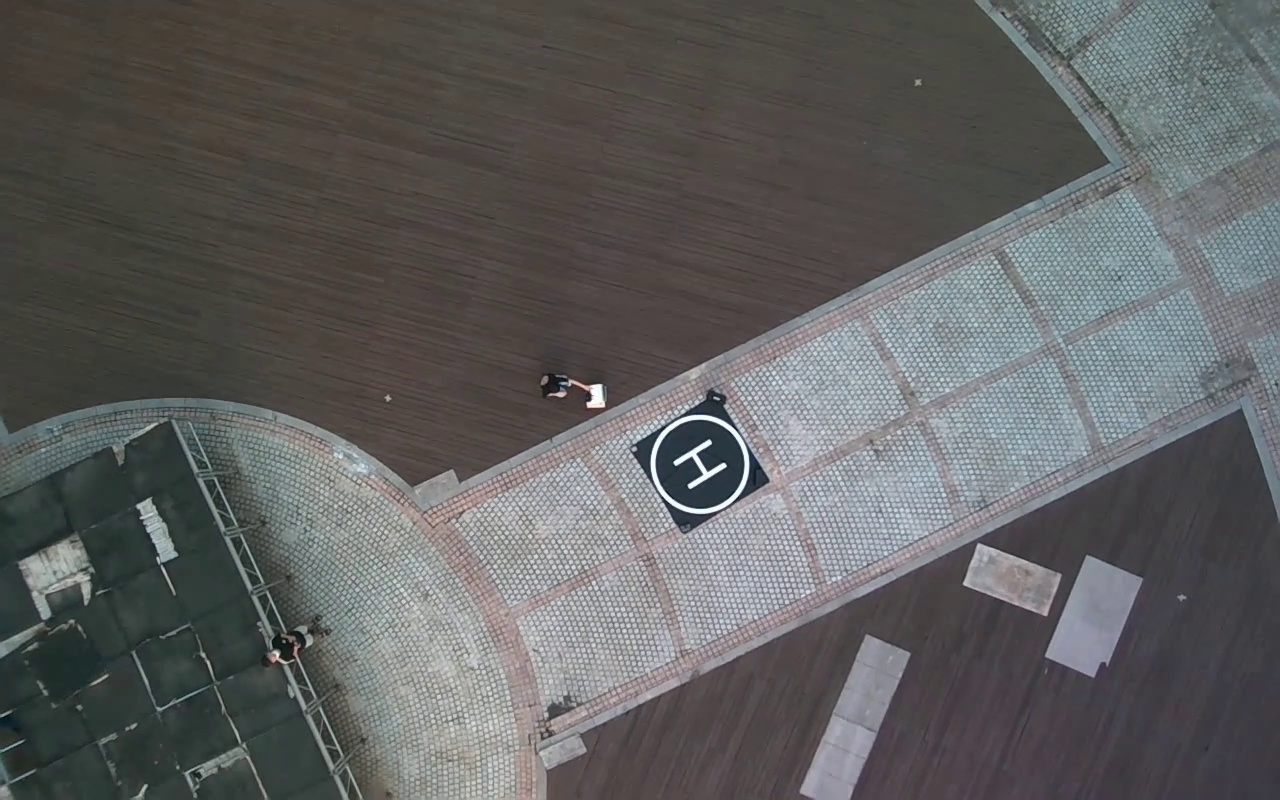H: (672, 438, 728, 491)
heliport: (651, 415, 752, 514)
